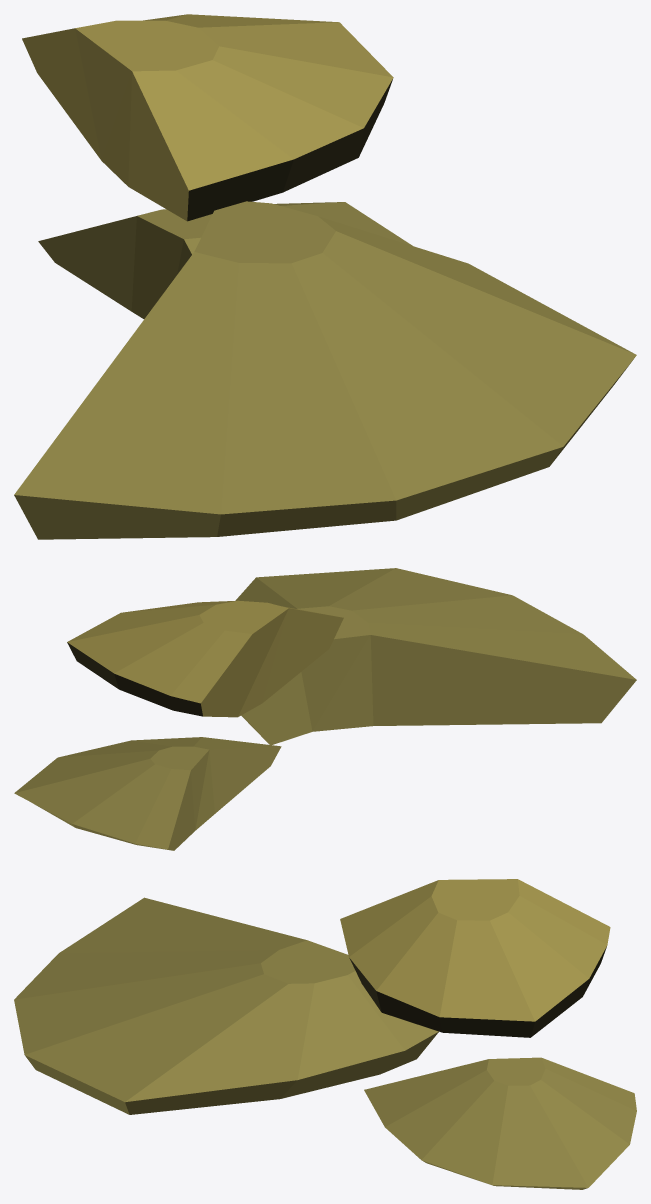
The model's file is Fomes.fbx.
3 views of the same model, one above another, from view 1: azimuth 30°, elevation 25°; view 2: azimuth 150°, elevation 25°; view 3: azimuth 270°, elevation 25° (orthographic). The views are drawn at different scales.
Visible parts, largest first — view 1: Cube.003; view 2: Cube.003; view 3: Cube.003.
Part boxes in pixels (bbox=[...]): Cube.003: bbox=[14, 14, 636, 539]; Cube.003: bbox=[14, 568, 636, 850]; Cube.003: bbox=[14, 879, 636, 1189].
Bounding box in the file's own units: 120 × 54.79 × 143.
